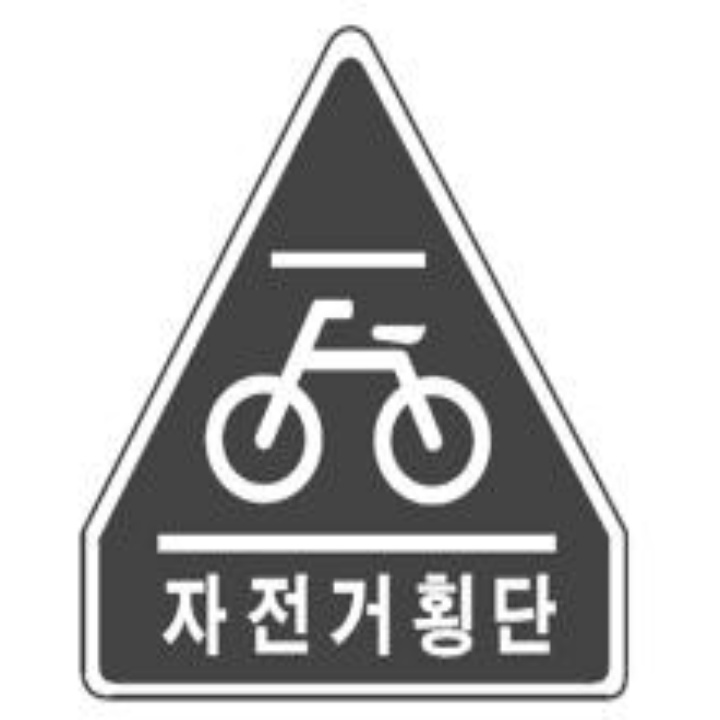bicycle: (198, 275, 504, 523)
